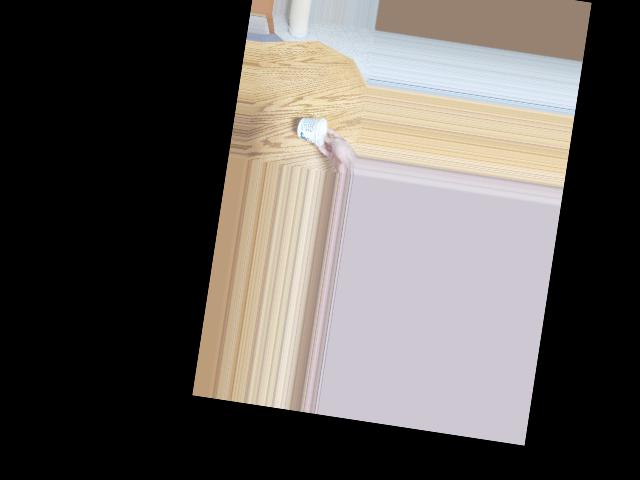cotage: (296, 115, 330, 149)
